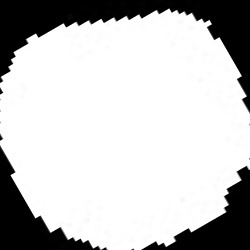spot: (1, 10, 249, 249)
